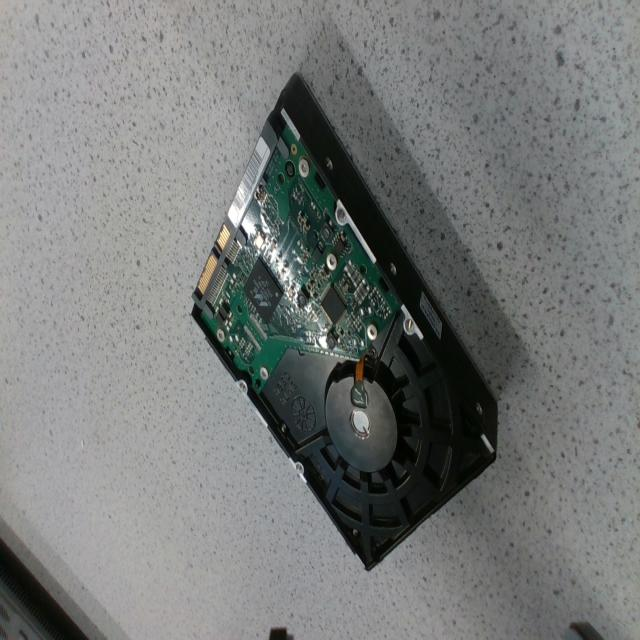case: (192, 76, 498, 568)
pcb: (197, 123, 403, 399)
screw: (298, 156, 309, 177), (326, 252, 336, 271), (366, 324, 377, 340), (216, 327, 225, 342), (260, 365, 268, 380)
